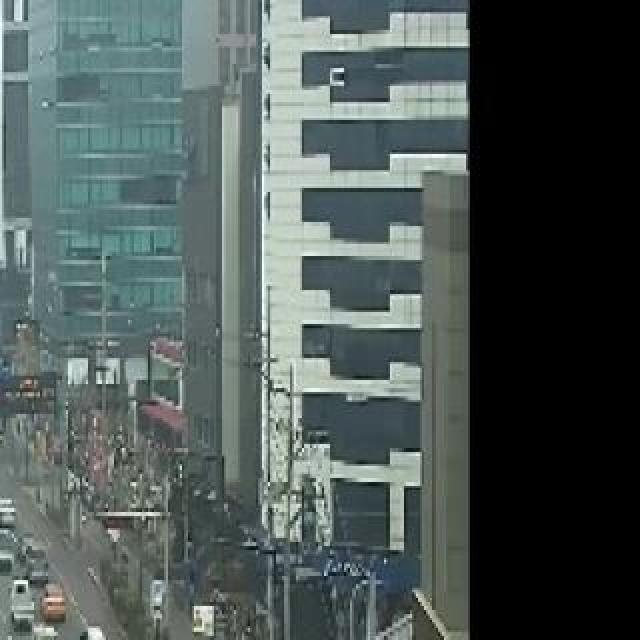truck: (4, 571, 40, 629), (20, 622, 64, 640)
